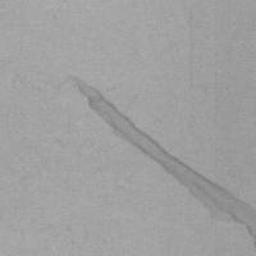Water spot: (67, 73, 256, 252)
